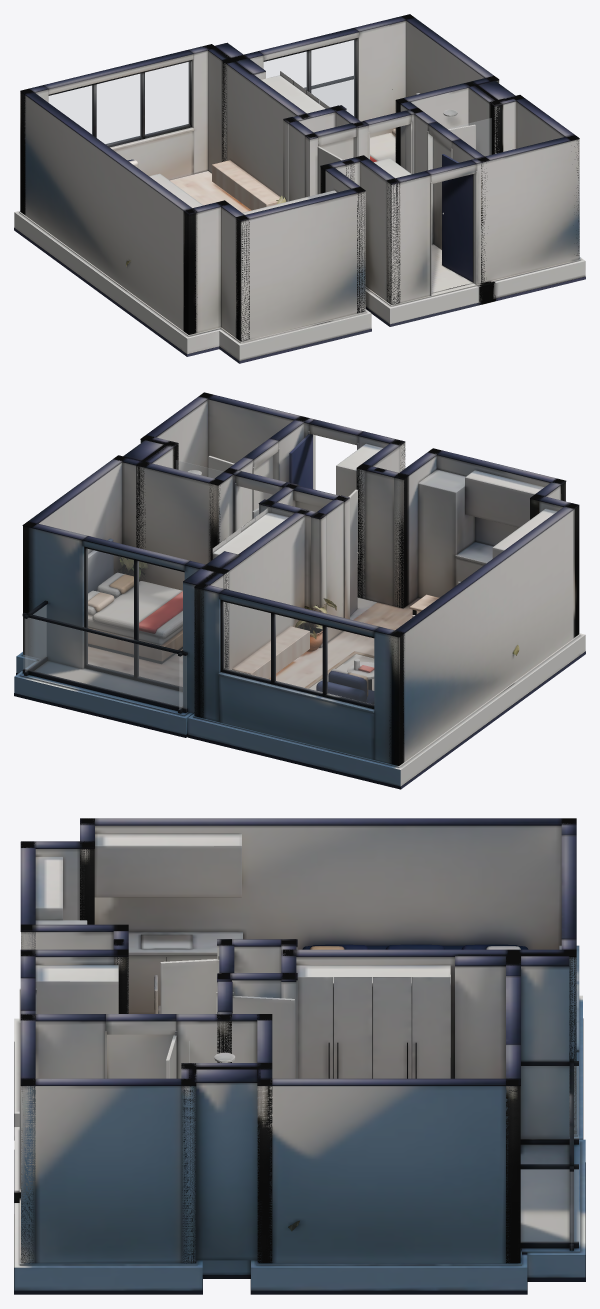
3 renders of one model, top to bottom at view 1: azimuth 30°, elevation 25°; view 2: azimuth 150°, elevation 25°; view 3: azimuth 270°, elevation 25°, orthographic. The views are drawn at different scales.
Visible parts, largest first — view 1: plan, glass0_m, glass1_m, railg0_m, sg.001_m; view 2: plan, glass1_m, glass0_m, railg0_m, railg4_m; view 3: plan, railg4_m, railg3_m.
Part boxes in pixels (left/top/right/bottom): plan: left=14, top=14, right=585, bottom=363; glass0_m: left=49, top=62, right=189, bottom=144; glass1_m: left=264, top=40, right=354, bottom=116; railg0_m: left=312, top=80, right=353, bottom=115; sg.001_m: left=448, top=118, right=491, bottom=155; plan: left=14, top=392, right=585, bottom=789; glass1_m: left=87, top=549, right=184, bottom=686; glass0_m: left=223, top=602, right=373, bottom=705; railg0_m: left=23, top=617, right=186, bottom=708; railg4_m: left=25, top=605, right=46, bottom=671; plan: left=14, top=818, right=585, bottom=1294; railg4_m: left=521, top=1169, right=578, bottom=1242; railg3_m: left=521, top=1066, right=578, bottom=1138.
Bounding box in the file's own units: 7.41 × 2.62 × 6.57.
2 materials, 1 textured.
